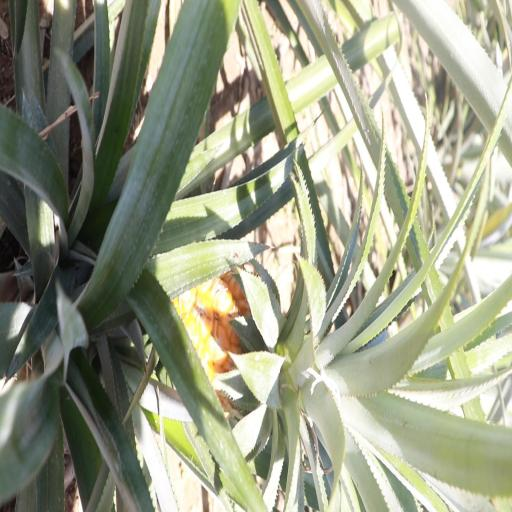Pineapple - v8 v1: (171, 256, 392, 438)
